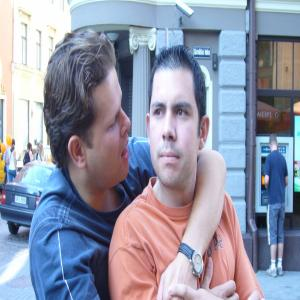Vehicle-registration-plate: (15, 197, 27, 205)
